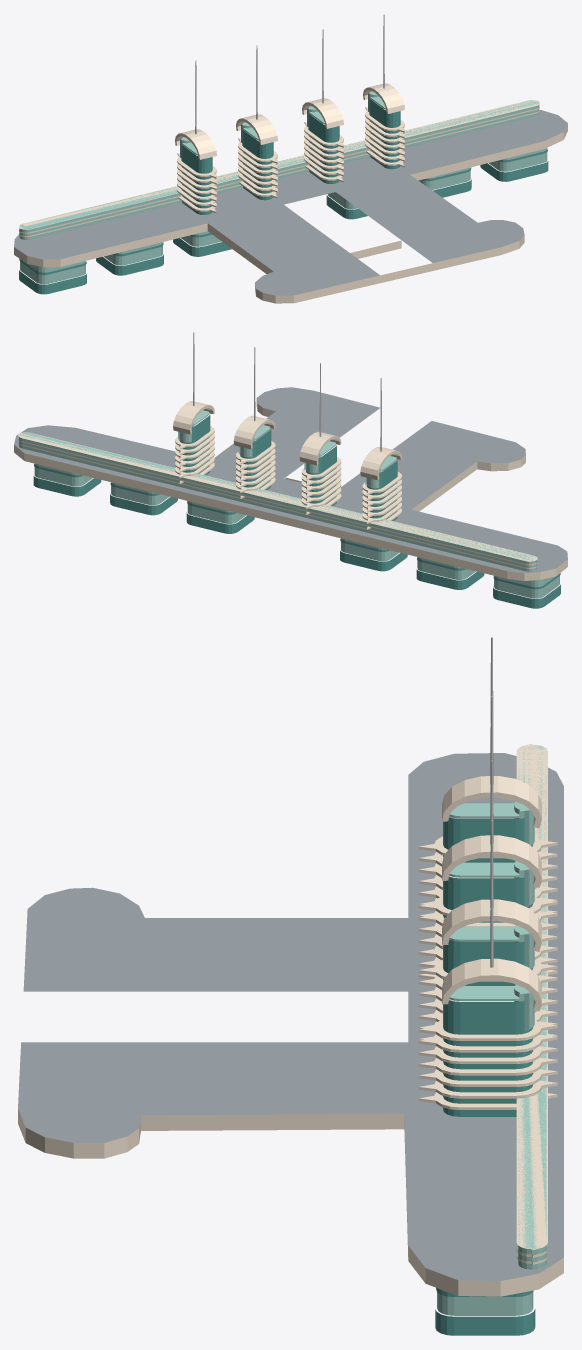
Rendered from wdw-dhs-entrance.glb.
3 renders of one model, top to bottom at view 1: azimuth 30°, elevation 25°; view 2: azimuth 150°, elevation 25°; view 3: azimuth 270°, elevation 25°, orthographic. The views are drawn at different scales.
Parts seen in each view (by area): view 1: Disney's Hollywood Studios Entrance; view 2: Disney's Hollywood Studios Entrance; view 3: Disney's Hollywood Studios Entrance.
Boxes of the visible parts, <box> form: Disney's Hollywood Studios Entrance: <box>14,14,567,303</box>; Disney's Hollywood Studios Entrance: <box>14,332,567,608</box>; Disney's Hollywood Studios Entrance: <box>18,637,563,1335</box>.
Size of the model in its own units: 65 by 21 by 28.4.
